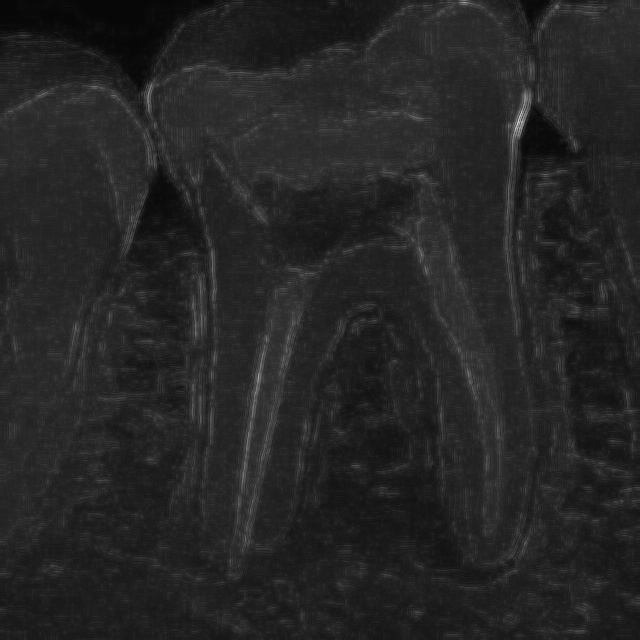Class 0- No endodontic treatment: (150, 137, 588, 609)
